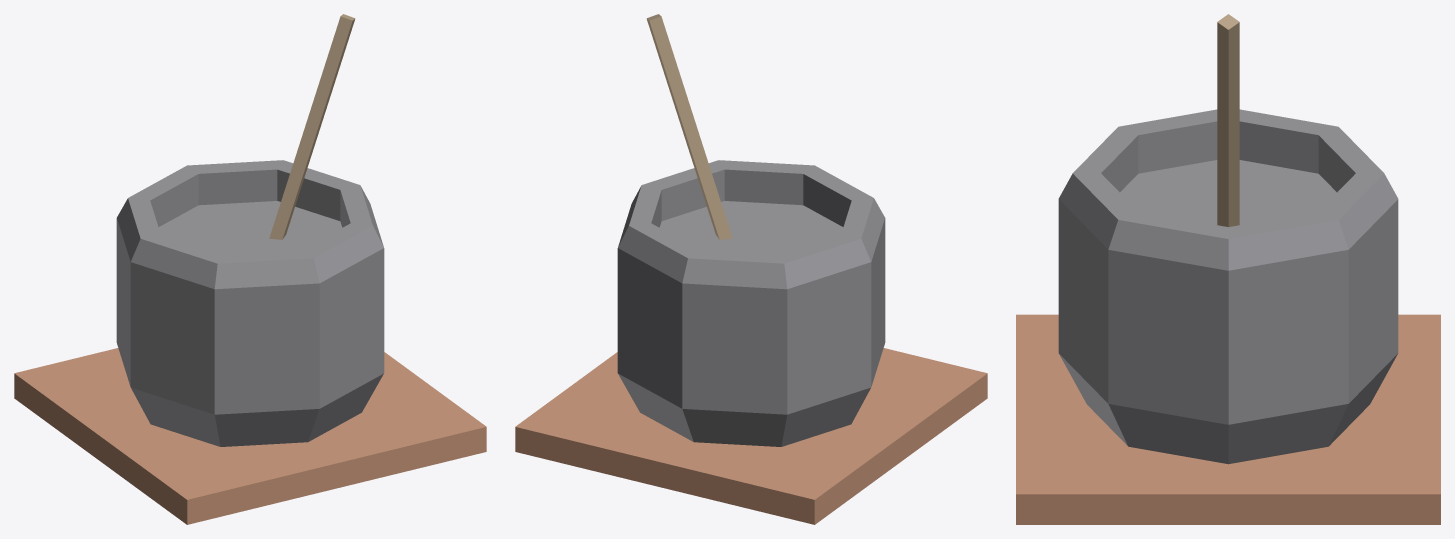
File: prop-setting-pitch-pot.fbx
3 views of the same model, side by side, from view 1: azimuth 30°, elevation 25°; view 2: azimuth 150°, elevation 25°; view 3: azimuth 270°, elevation 25° (orthographic). The views are drawn at different scales.
Parts seen in each view (by area): view 1: prop-setting-pitch-pot; view 2: prop-setting-pitch-pot; view 3: prop-setting-pitch-pot.
Boxes of the visible parts, x1,y1,x2,y2 form: prop-setting-pitch-pot: (14,14,486,524); prop-setting-pitch-pot: (515,14,987,524); prop-setting-pitch-pot: (1016,14,1440,524).
Size of the model in its own units: 15 by 18.51 by 15.
